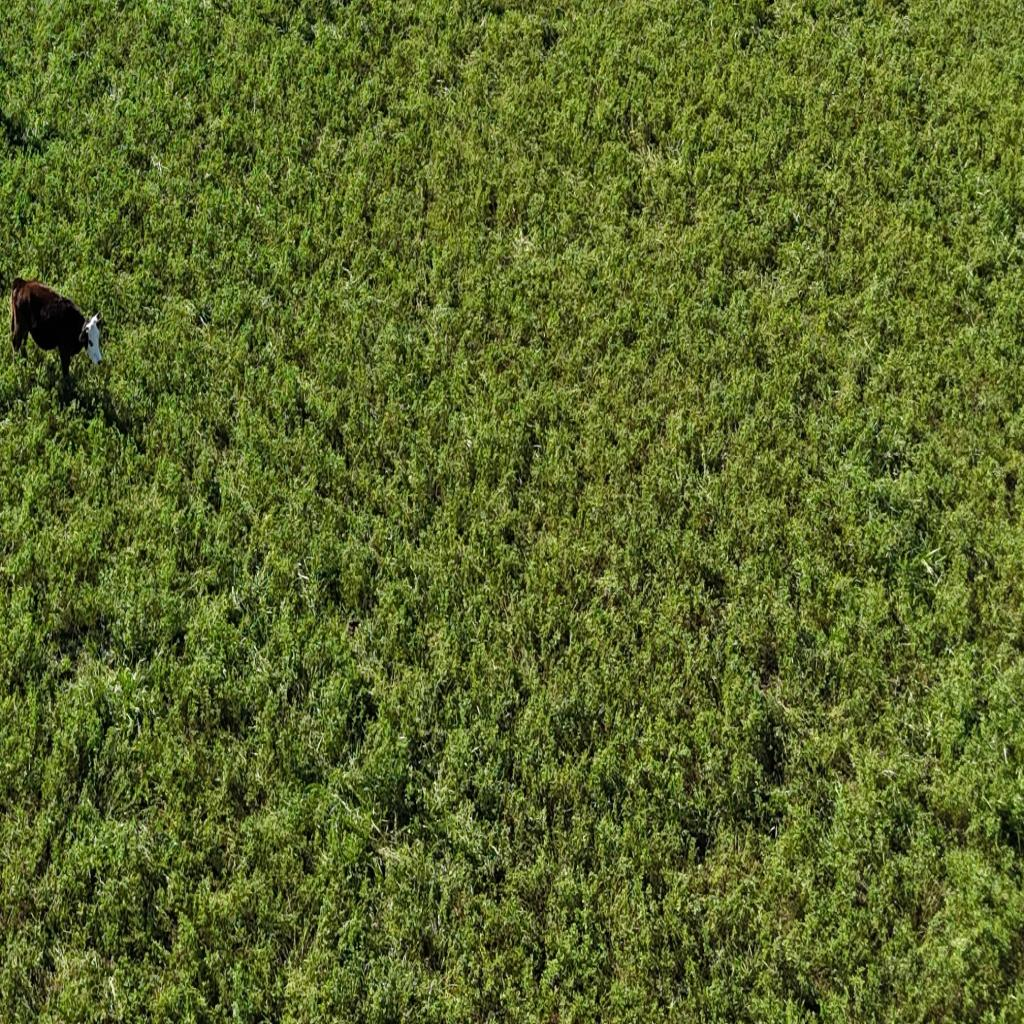cow: (12, 278, 106, 382)
